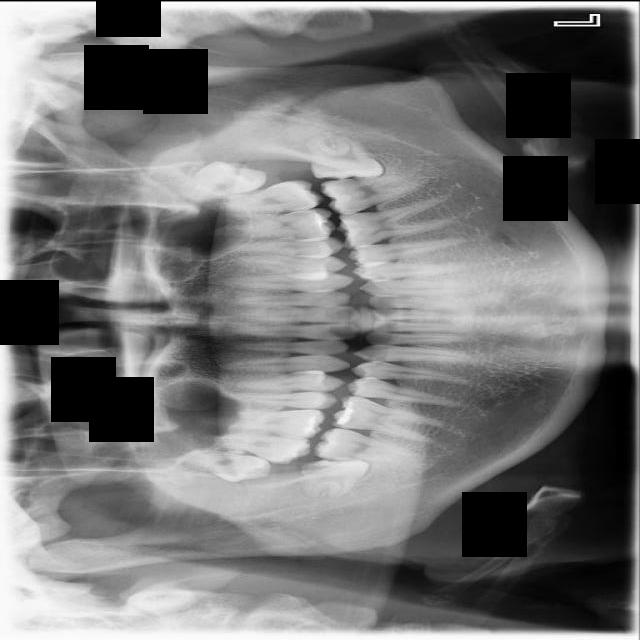3M ESPE Implant: (176, 441, 273, 488)
52: (336, 399, 357, 427), (309, 211, 328, 230), (304, 414, 316, 433)
73: (576, 50, 598, 52)
BioHorizons Implant: (216, 175, 324, 220)
BioLife Implant: (167, 151, 269, 206)
Biomet 3i Implant: (307, 133, 384, 179)
Blue Sky Bio Implant: (318, 169, 434, 217)
Caries: (212, 428, 312, 465)
Implant: (313, 425, 418, 466)
Keystone Dental Implant: (300, 455, 369, 498)
